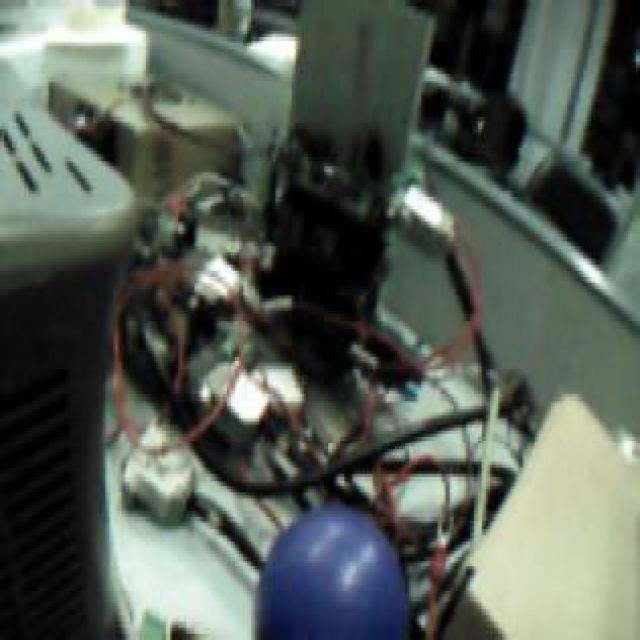BallPurple: (253, 504, 407, 640)
